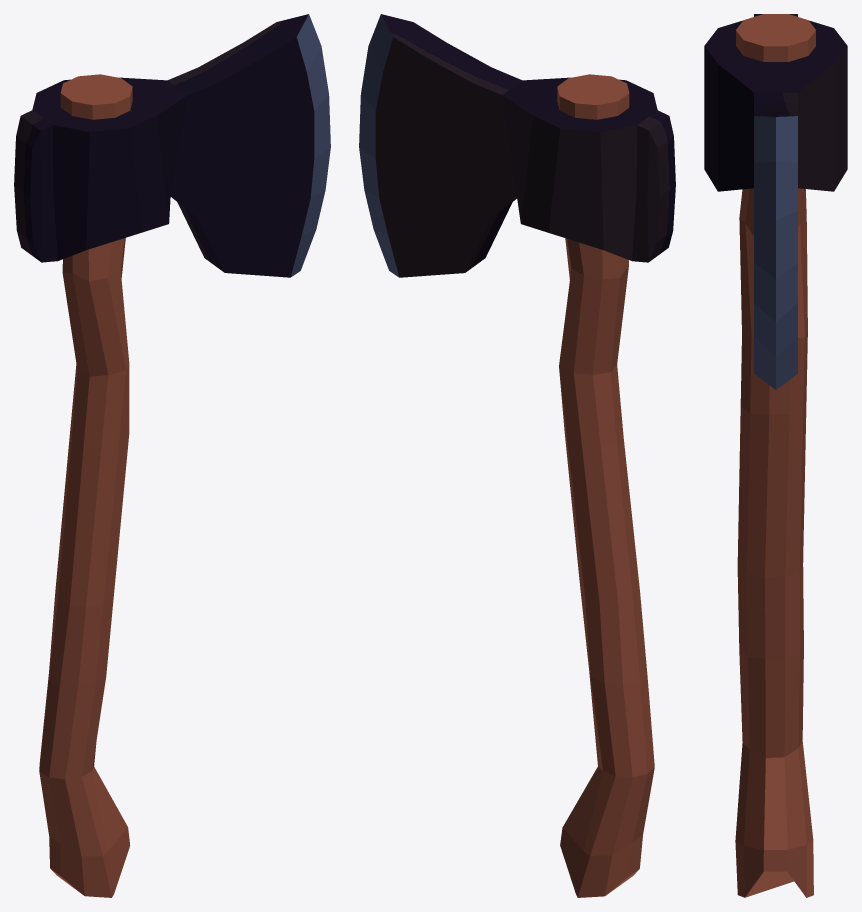
The model's file is Axe.fbx.
3 views of the same model, side by side, from view 1: azimuth 30°, elevation 25°; view 2: azimuth 150°, elevation 25°; view 3: azimuth 270°, elevation 25° (orthographic). The views are drawn at different scales.
Visible parts, largest first — view 1: Cylinder; view 2: Cylinder; view 3: Cylinder.
Part boxes in pixels (bbox=[...]): Cylinder: bbox=[14, 14, 330, 897]; Cylinder: bbox=[359, 14, 675, 897]; Cylinder: bbox=[704, 14, 847, 897].
Bounding box in the file's own units: 163 × 413 × 60.23.
Materials: 1 (1 with a texture image).
